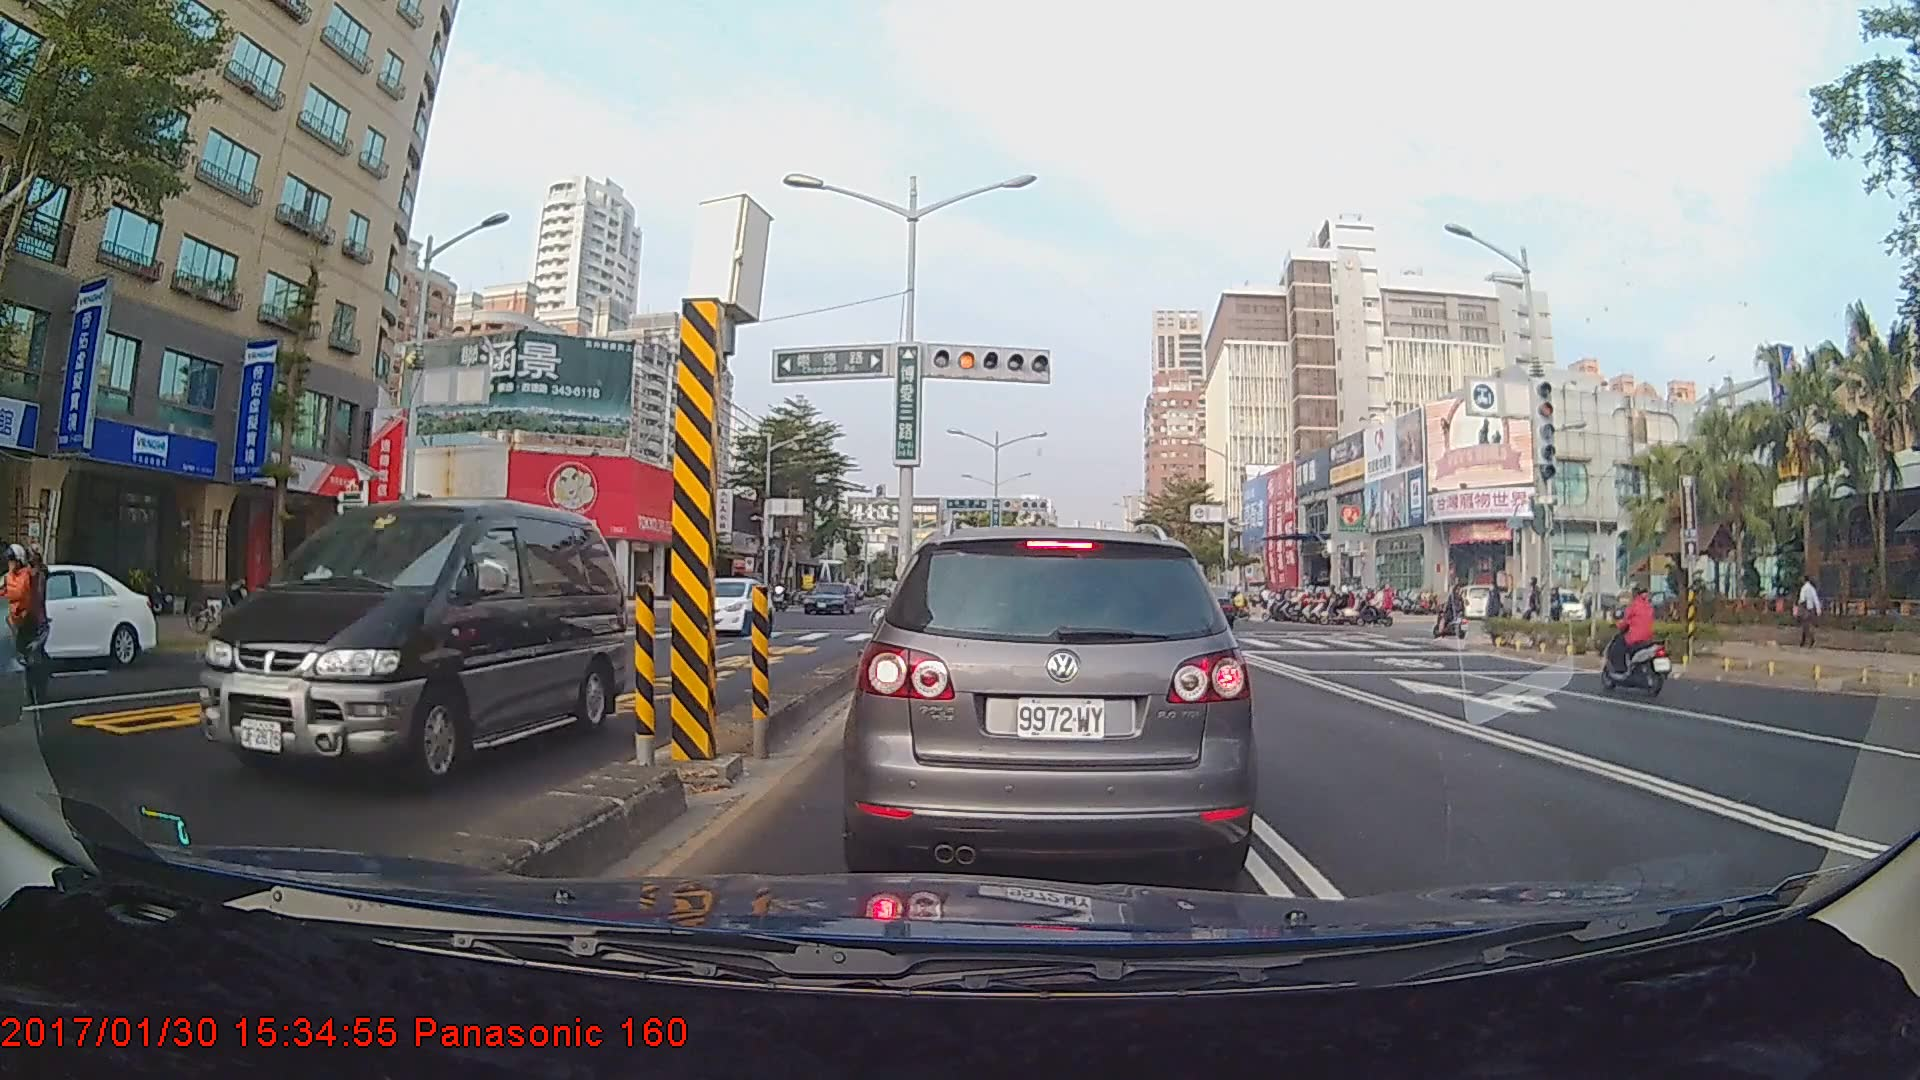pedestrian: (1793, 576, 1824, 649), (1484, 579, 1509, 637)
rider: (1, 539, 60, 701), (1604, 581, 1673, 690), (1436, 582, 1473, 646)
vehicle: (855, 524, 1248, 879), (195, 496, 626, 790), (0, 561, 158, 671), (677, 577, 772, 637), (801, 579, 853, 615)
